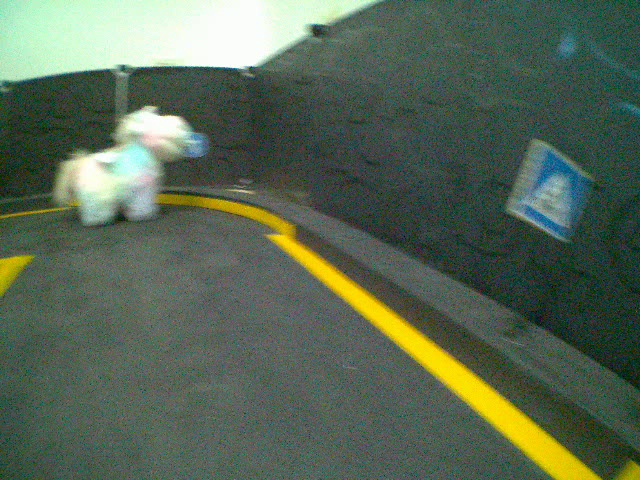unicorn: (51, 103, 194, 227)
